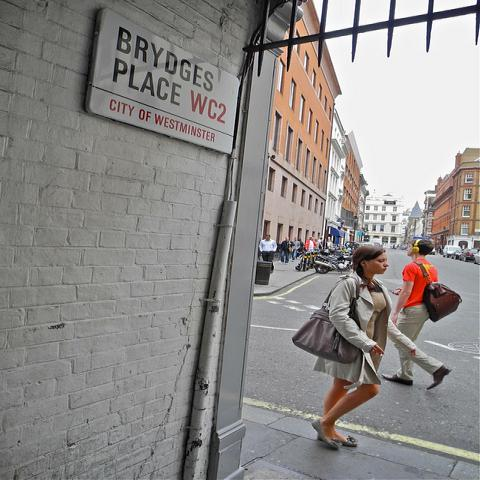car: (458, 248, 480, 262), (473, 251, 479, 264)
motorcycle: (313, 250, 355, 274), (296, 252, 317, 272), (326, 247, 351, 258)
truck: (440, 246, 462, 259)
